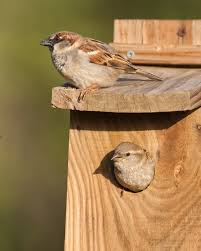hsparrow: (31, 27, 171, 97), (110, 139, 160, 200)
